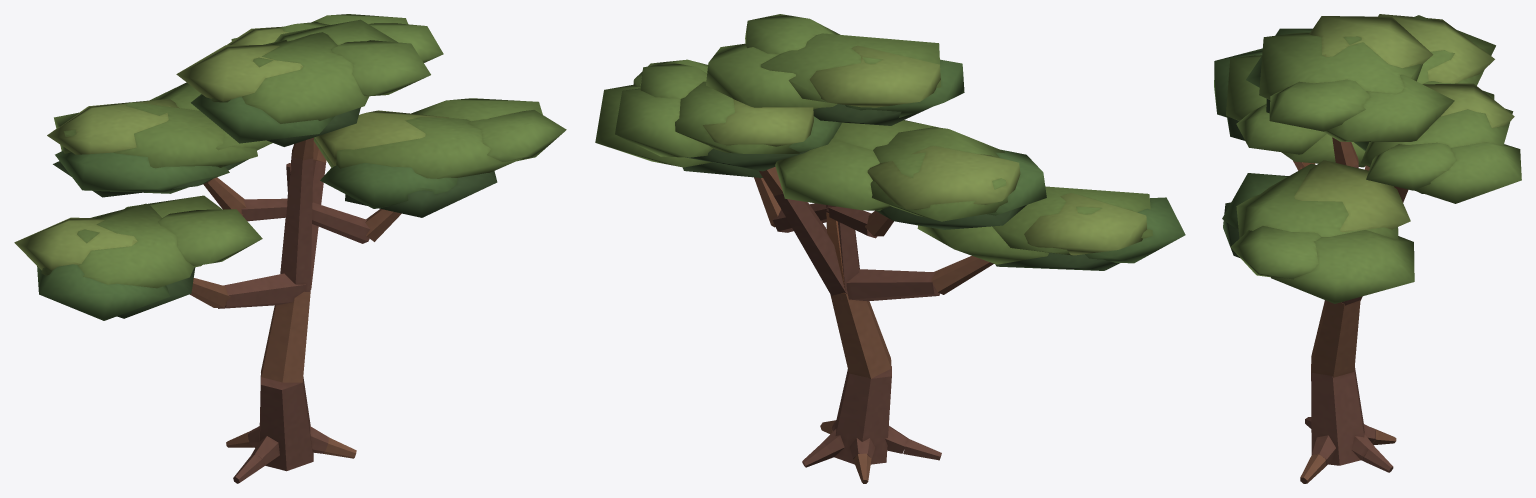
File: Grand_Dojo_Pine_LOD1.glb
3 views of the same model, side by side, from view 1: azimuth 30°, elevation 25°; view 2: azimuth 150°, elevation 25°; view 3: azimuth 270°, elevation 25° (orthographic). The views are drawn at different scales.
Parts seen in each view (by area): view 1: Grand Dojo Pine LOD1; view 2: Grand Dojo Pine LOD1; view 3: Grand Dojo Pine LOD1.
Boxes of the visible parts, box(x1,y1,x2,y2) form: Grand Dojo Pine LOD1: box(14, 14, 566, 483); Grand Dojo Pine LOD1: box(595, 14, 1185, 483); Grand Dojo Pine LOD1: box(1214, 14, 1521, 483).
Bounding box in the file's own units: 14.4 × 10.22 × 6.93.
1 material, 1 textured.
